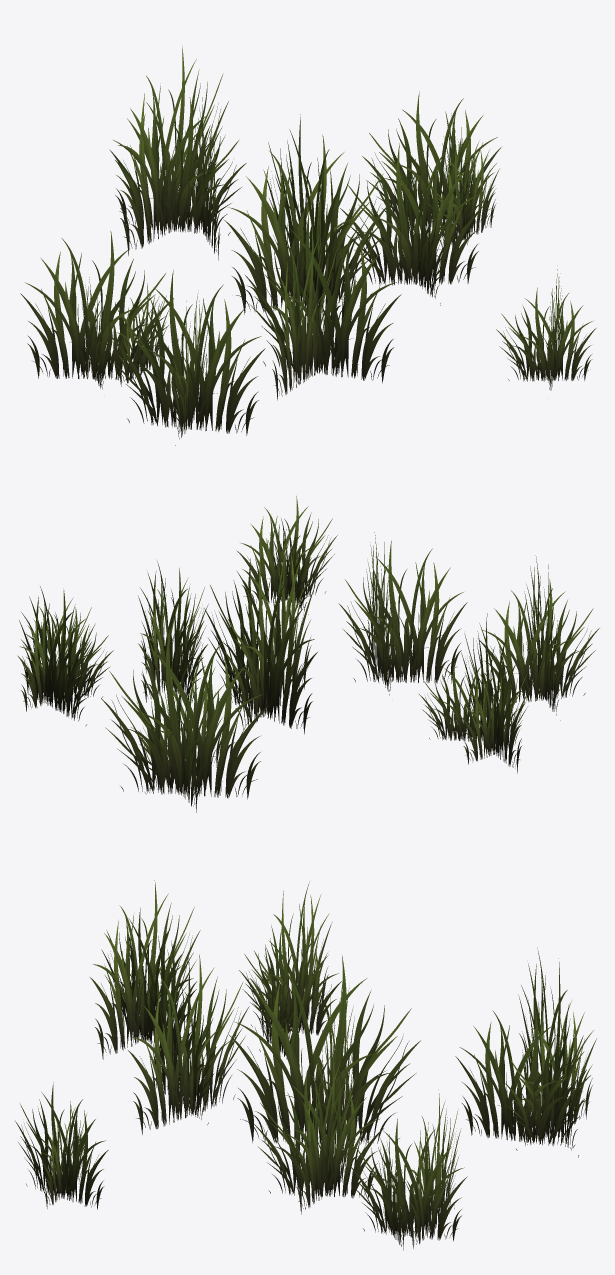
Rendered from Grass_09.fbx.
3 renders of one model, top to bottom at view 1: azimuth 30°, elevation 25°; view 2: azimuth 150°, elevation 25°; view 3: azimuth 270°, elevation 25°, orthographic. The views are drawn at different scales.
Parts seen in each view (by area): view 1: Grass_09; view 2: Grass_09; view 3: Grass_09.
Boxes of the visible parts, box(x1,y1,x2,y2) form: Grass_09: box(20, 45, 596, 445); Grass_09: box(17, 496, 599, 812); Grass_09: box(15, 880, 596, 1250).
Size of the model in its own units: 3.11 by 3.01 by 1.1.
